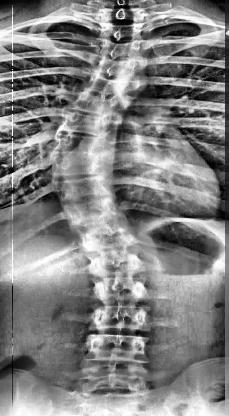Vertebrae: (82, 301, 158, 332), (76, 336, 154, 362), (88, 275, 154, 303), (60, 202, 126, 230), (52, 176, 112, 206), (85, 251, 149, 278), (52, 113, 124, 137), (78, 230, 140, 257), (49, 154, 113, 180), (68, 95, 132, 119), (47, 134, 115, 156), (90, 58, 152, 82), (78, 78, 140, 100), (95, 22, 143, 46), (94, 40, 144, 61)
